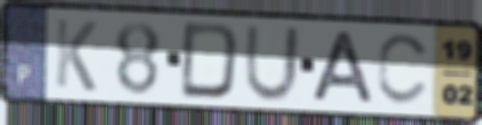8: (111, 17, 163, 99)
A: (309, 29, 377, 105)
C: (375, 31, 434, 109)
D: (177, 21, 243, 103)
K: (52, 16, 99, 95)
U: (242, 23, 303, 105)
